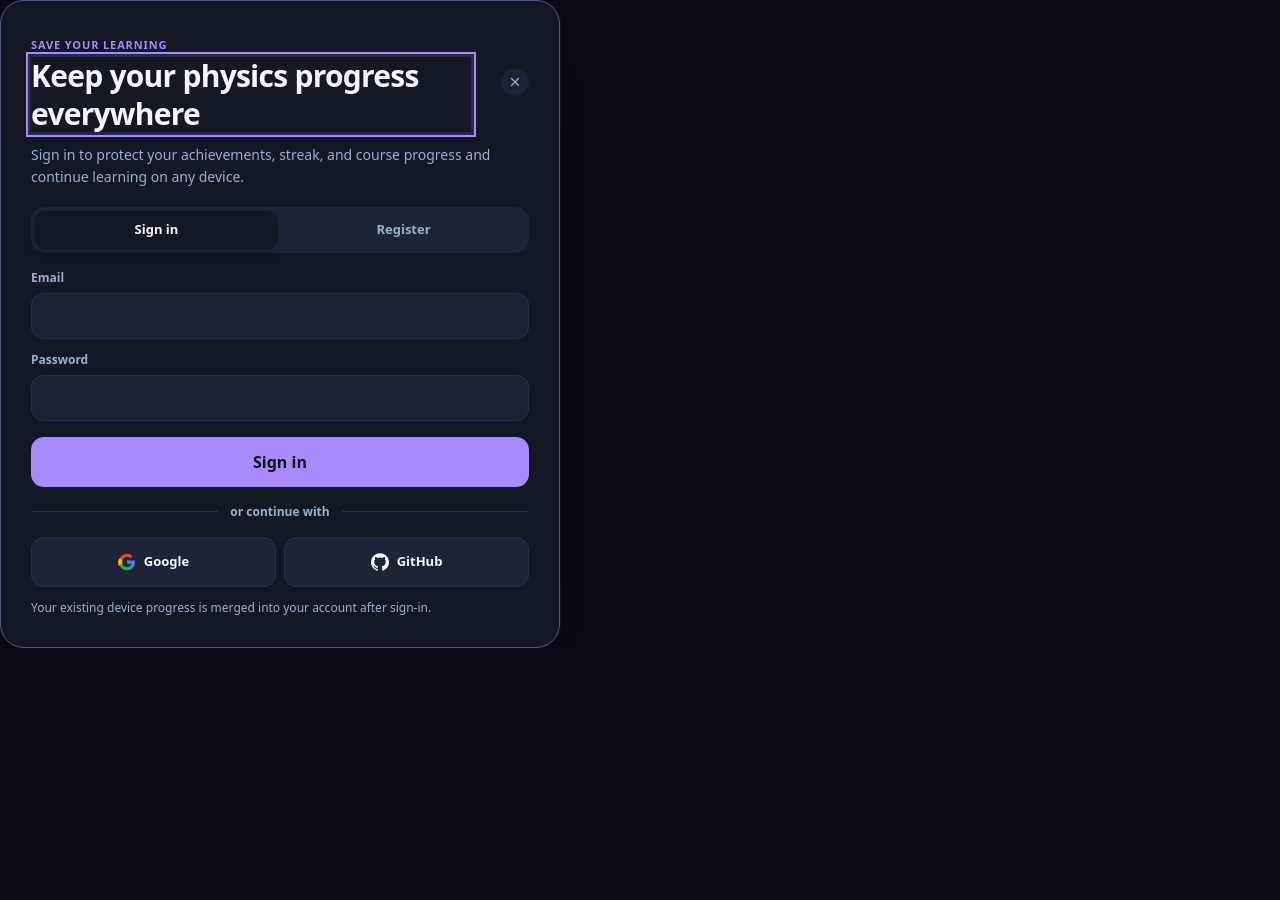
Test: AccountPopover › uses the prominent gate presentation while preserving registration and sign-in controls
This screenshot has width=1280, height=900.
Click the tab "Register".
click(404, 230)  # box [282, 211, 525, 249]
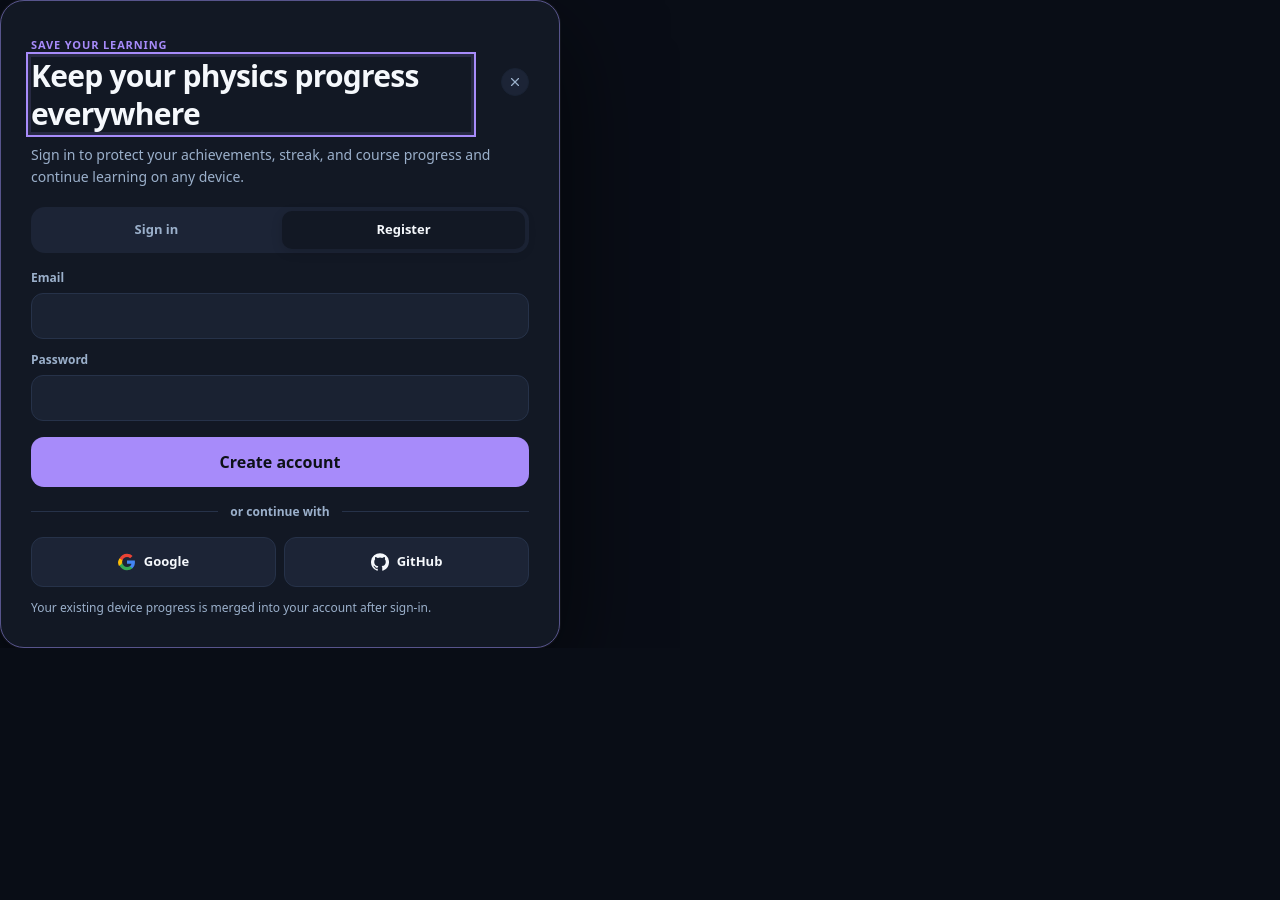
Type "learner@example.com" into the field labelled "Email".
click(280, 316); type("learner@example.com")  # box [31, 293, 529, 339]
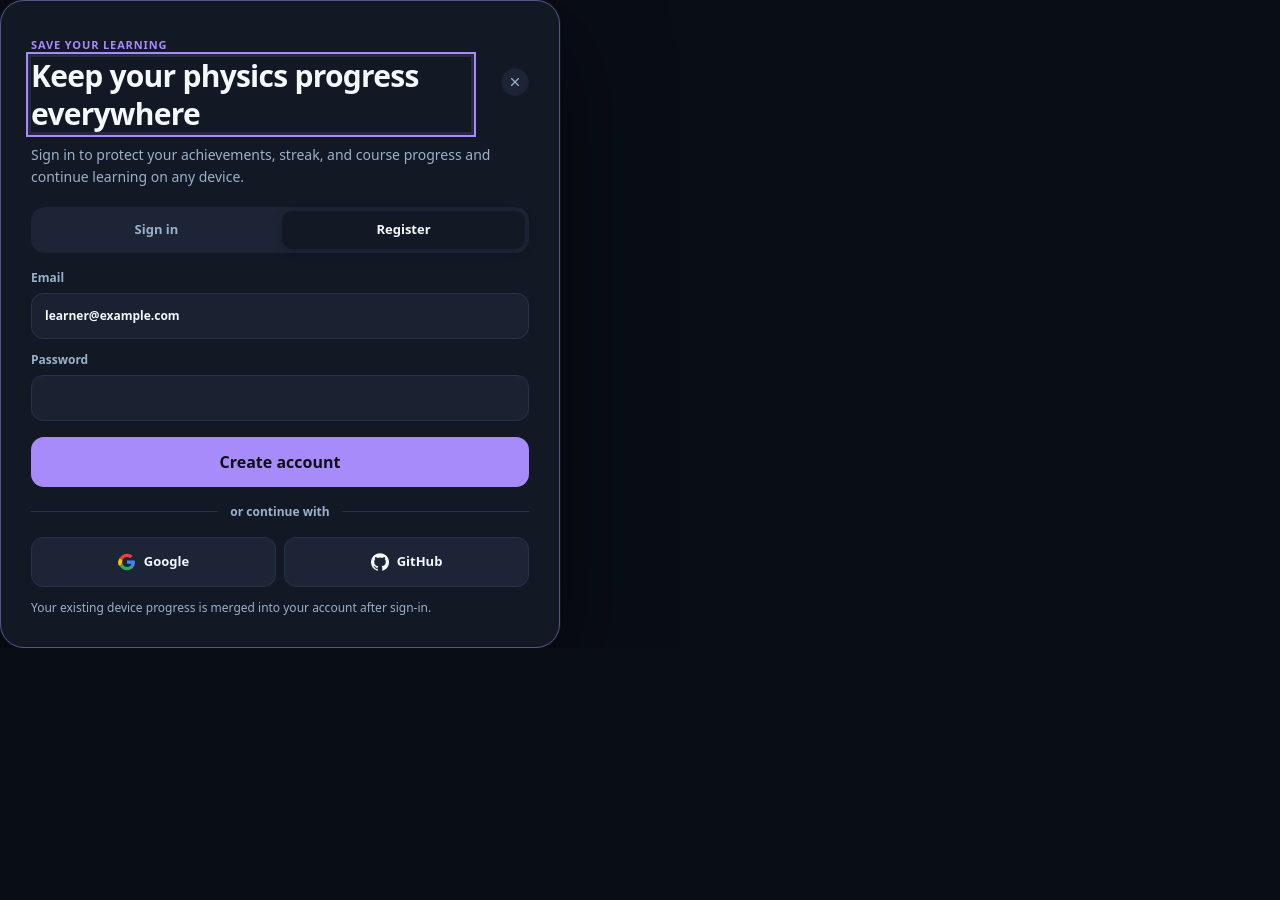
Type "strong-password" into the password field labelled "Password".
click(280, 398); type("strong-password")  # box [31, 375, 529, 421]
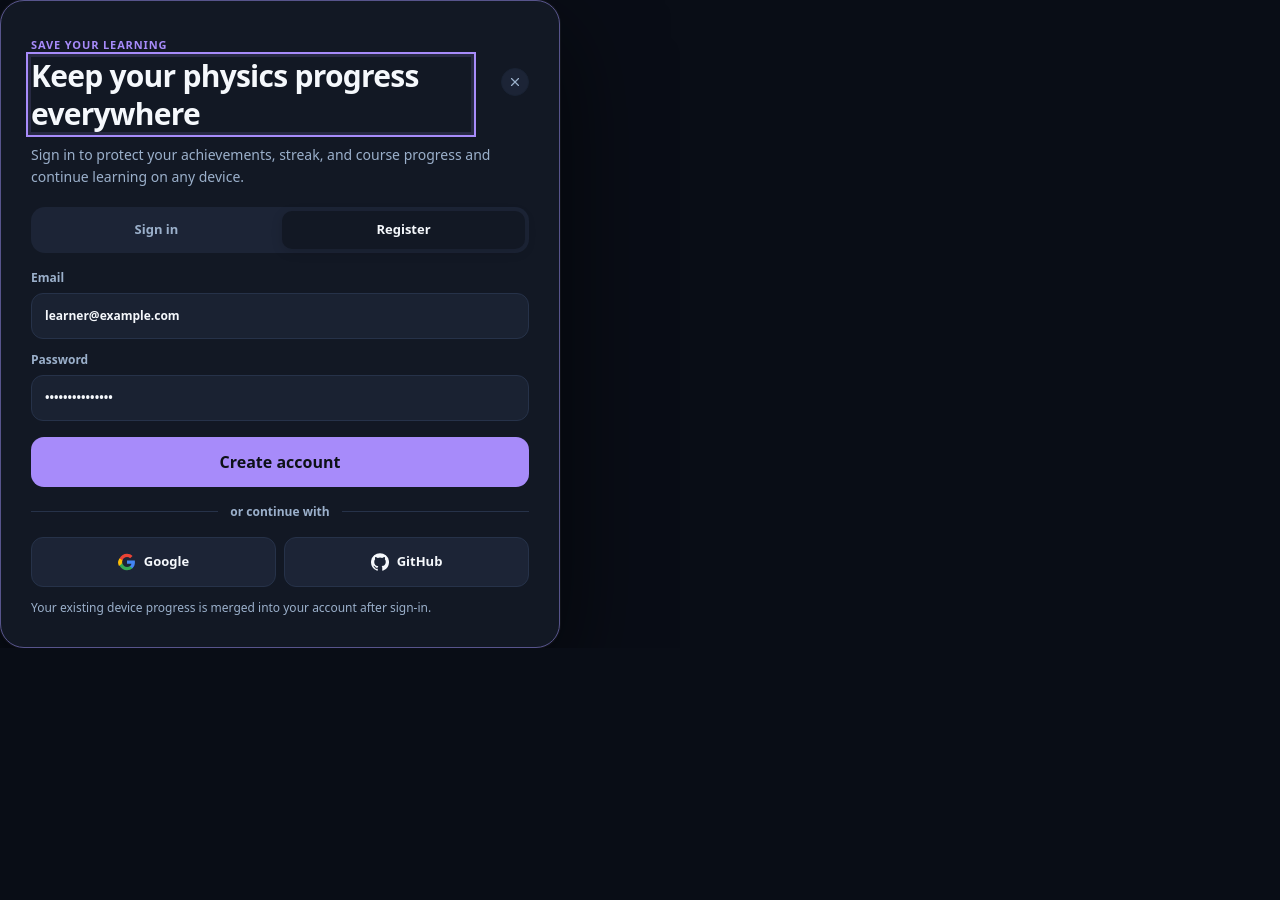
Click the button "Create account".
click(280, 462)  # box [31, 437, 529, 487]
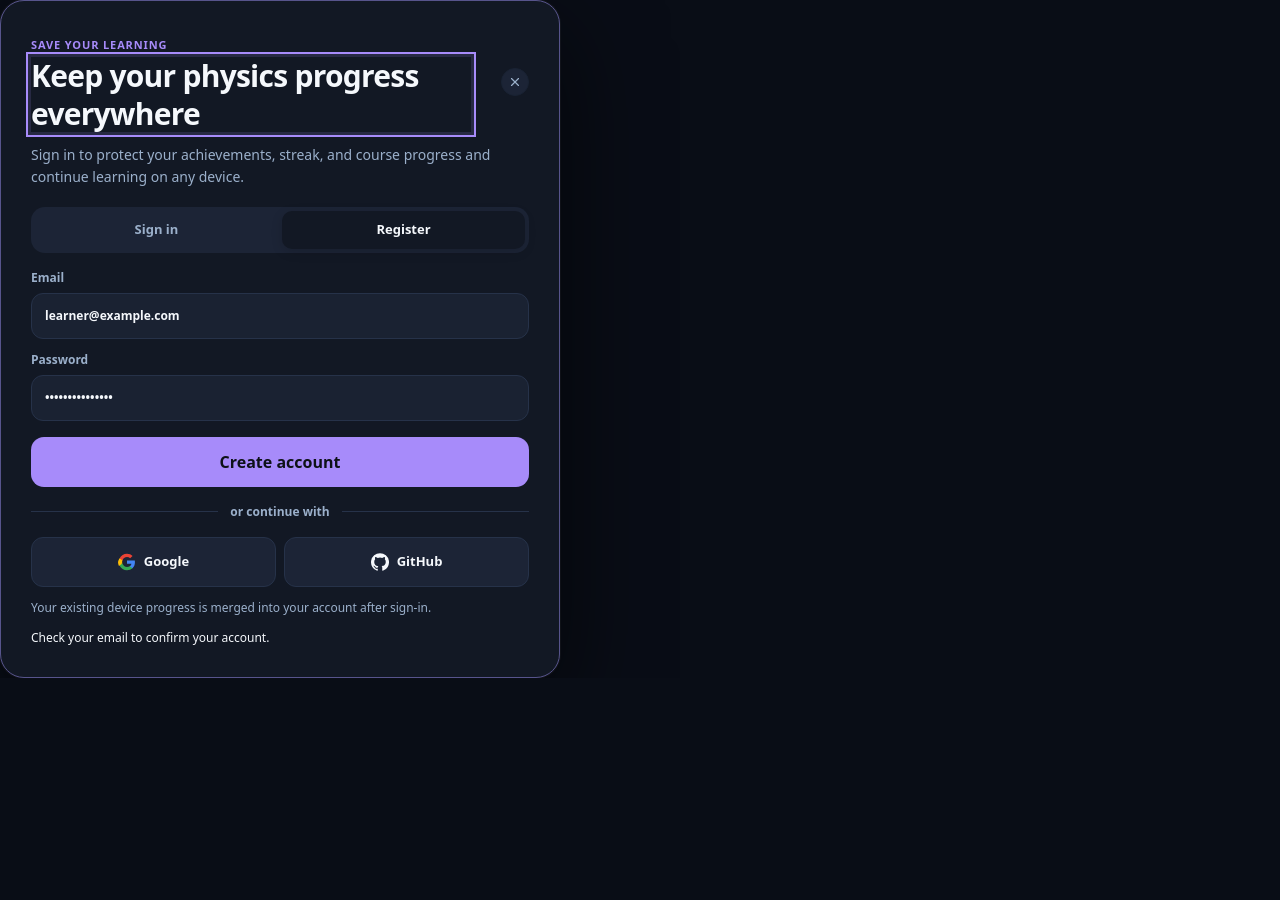
expect the message shows "Check your email": met, box [31, 629, 269, 646]
